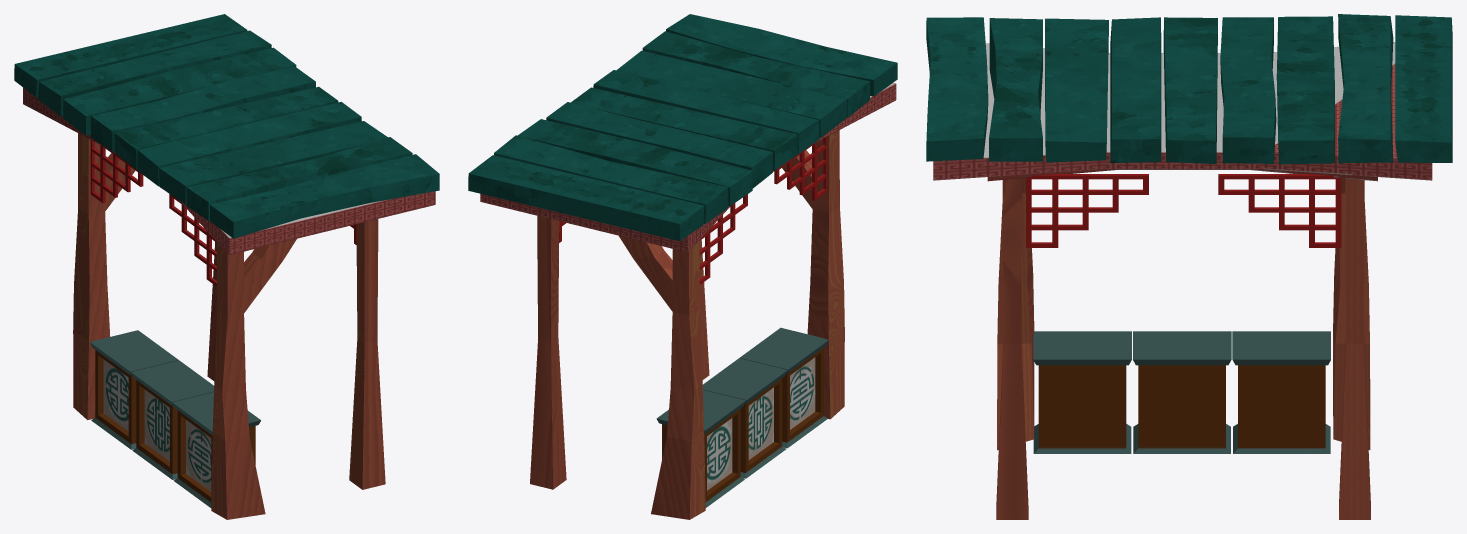
Rendered from booth 2-2.fbx.
3 renders of one model, left to right at view 1: azimuth 30°, elevation 25°; view 2: azimuth 150°, elevation 25°; view 3: azimuth 270°, elevation 25°, orthographic. The views are drawn at different scales.
Visible parts, largest first — view 1: Cube.001, Cube.002, Cube.004, Cube.011, Cube, Plane; view 2: Cube.001, Cube.002, Cube.004, Cube.011, Cube, Plane; view 3: Cube.001, Cube.004, Cube.011, Cube, Cube.002, Plane.
Part boxes in pixels (x1=…): Cube.001: x1=14, y1=14, x2=439, y2=238; Cube.002: x1=73, y1=133, x2=296, y2=519; Cube.004: x1=90, y1=330, x2=260, y2=507; Cube.011: x1=207, y1=219, x2=385, y2=489; Cube: x1=23, y1=87, x2=435, y2=254; Plane: x1=90, y1=140, x2=356, y2=286; Cube.001: x1=468, y1=14, x2=897, y2=241; Cube.002: x1=619, y1=130, x2=844, y2=519; Cube.004: x1=656, y1=327, x2=828, y2=507; Cube.011: x1=530, y1=216, x2=709, y2=489; Cube: x1=480, y1=82, x2=896, y2=252; Plane: x1=559, y1=137, x2=827, y2=284; Cube.001: x1=926, y1=14, x2=1452, y2=164; Cube.004: x1=1033, y1=331, x2=1330, y2=453; Cube.011: x1=996, y1=178, x2=1370, y2=519; Cube: x1=933, y1=42, x2=1432, y2=181; Cube.002: x1=997, y1=178, x2=1370, y2=450; Plane: x1=1026, y1=174, x2=1341, y2=247.
Size of the model in its own units: 1002 by 1497 by 1791.
1 material, 1 textured.
